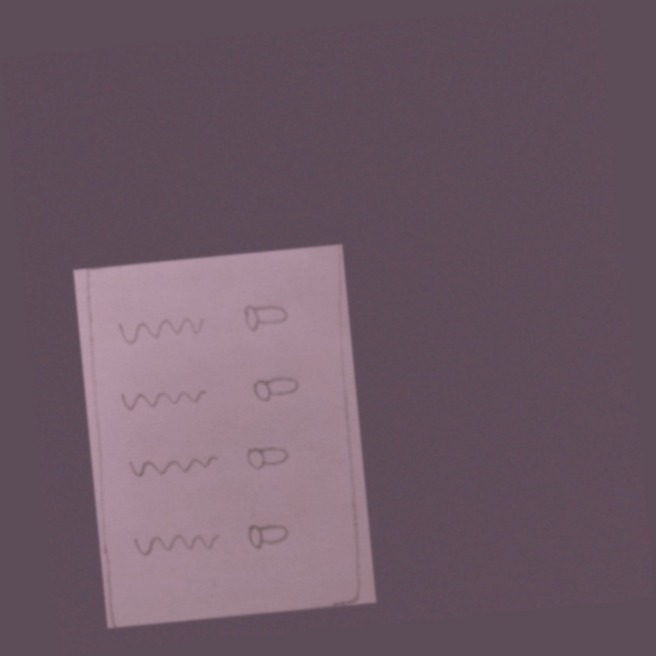switch: (237, 298, 296, 337), (246, 368, 305, 407), (240, 438, 299, 477), (243, 515, 303, 553)
text: (113, 307, 210, 350), (117, 375, 214, 418), (126, 444, 223, 487), (128, 519, 225, 562)
